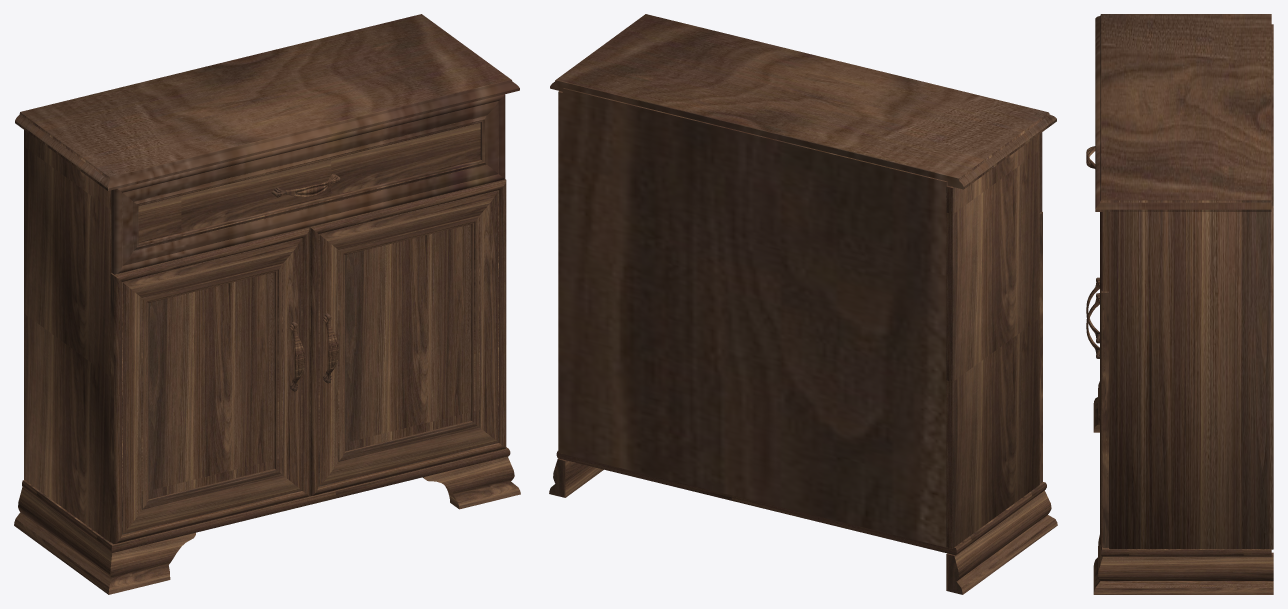
The model's file is bedside.gltf.
The picture shows the model from 3 angles, left to right: view 1: azimuth 30°, elevation 25°; view 2: azimuth 150°, elevation 25°; view 3: azimuth 270°, elevation 25°; orthographic projection. The views are drawn at different scales.
Parts seen in each view (by area): view 1: Object74, Object70, Object64, Object60, Object62, Object66, Object51, Object52, Object75, Object72, Object61, Object65 (+2 smaller); view 2: Object71, Object74, Object70, Object75, Object72, Object63, Object73, Object64; view 3: Object63, Object74, Object73, Object60, Object72, Object51, Object71, Object58, Object75, Object67.
Part boxes in pixels (x1=…): Object74: x1=15, y1=14, x2=519, y2=190; Object70: x1=24, y1=130, x2=111, y2=542; Object64: x1=110, y1=227, x2=309, y2=544; Object60: x1=309, y1=179, x2=505, y2=496; Object62: x1=345, y1=224, x2=471, y2=451; Object66: x1=148, y1=272, x2=274, y2=499; Object51: x1=111, y1=94, x2=505, y2=274; Object52: x1=138, y1=122, x2=480, y2=242; Object75: x1=14, y1=487, x2=195, y2=594; Object72: x1=22, y1=447, x2=510, y2=552; Object61: x1=310, y1=180, x2=506, y2=496; Object65: x1=114, y1=228, x2=309, y2=544; Object71: x1=562, y1=88, x2=947, y2=547; Object74: x1=550, y1=14, x2=1056, y2=189; Object70: x1=946, y1=134, x2=1039, y2=548; Object75: x1=946, y1=490, x2=1057, y2=594; Object72: x1=556, y1=451, x2=1046, y2=555; Object63: x1=558, y1=91, x2=564, y2=453; Object73: x1=549, y1=458, x2=603, y2=497; Object64: x1=1039, y1=211, x2=1042, y2=483; Object63: x1=1109, y1=205, x2=1273, y2=549; Object74: x1=1095, y1=14, x2=1271, y2=211; Object73: x1=1093, y1=535, x2=1273, y2=594; Object60: x1=1100, y1=288, x2=1108, y2=547; Object72: x1=1101, y1=546, x2=1271, y2=556; Object51: x1=1100, y1=212, x2=1108, y2=291; Object71: x1=1271, y1=24, x2=1273, y2=205; Object58: x1=1086, y1=293, x2=1099, y2=358; Object75: x1=1093, y1=381, x2=1099, y2=432; Object67: x1=1086, y1=277, x2=1099, y2=343.
Bounding box in the file's own units: 0.9396 × 0.9002 × 0.389.
1 material, 1 textured.
